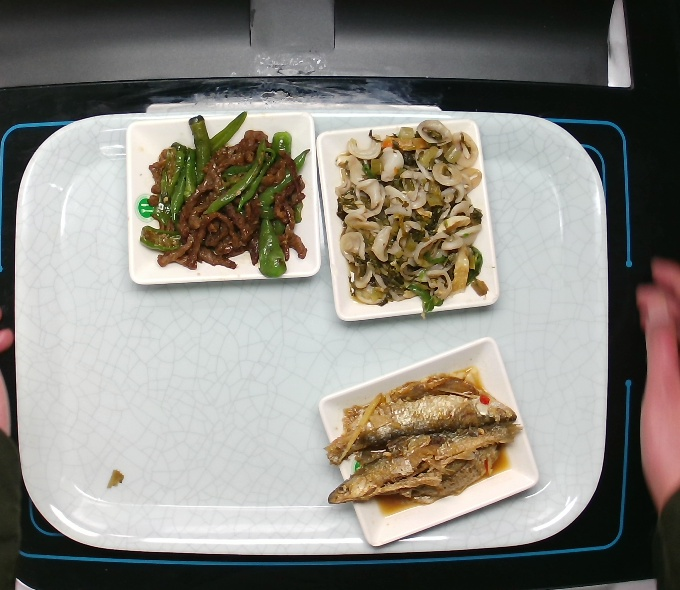wcq-QingJiaoNiuRou: (138, 112, 305, 287)
wcq-XiaoXiYu: (324, 381, 523, 521)
wcq-XueCaiYouYu: (330, 111, 495, 303)
